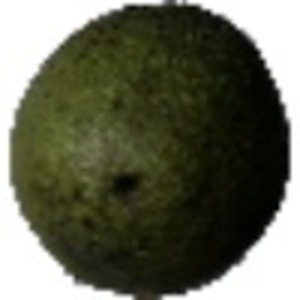abacate: (7, 1, 291, 292)
